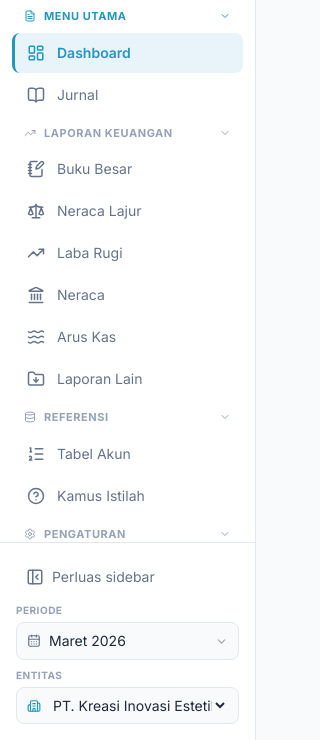
Test: Sidebar — dropdown periode (listbox custom, pola GlobalSearch) › klik opsi langsung memilih periode dan menutup
This screenshot has width=320, height=740.
Click the button with aria-label "Pilih periode".
click(128, 641)  # box top-left (16, 622), bottom-right (239, 660)
(page scrolled)
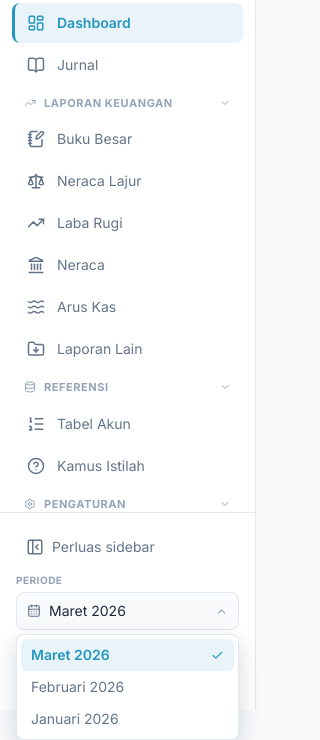
Click the option "Januari 2026".
click(75, 718)  # box top-left (31, 710), bottom-right (119, 727)
(page scrolled)
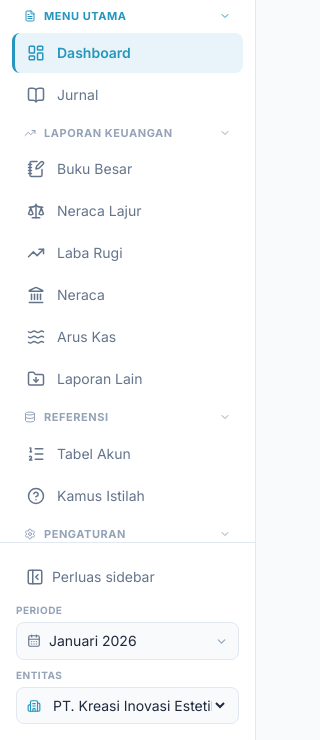
Expected: the list is gone
